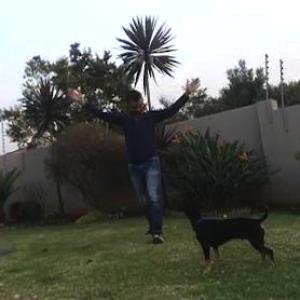takeoff: (61, 72, 200, 231)
